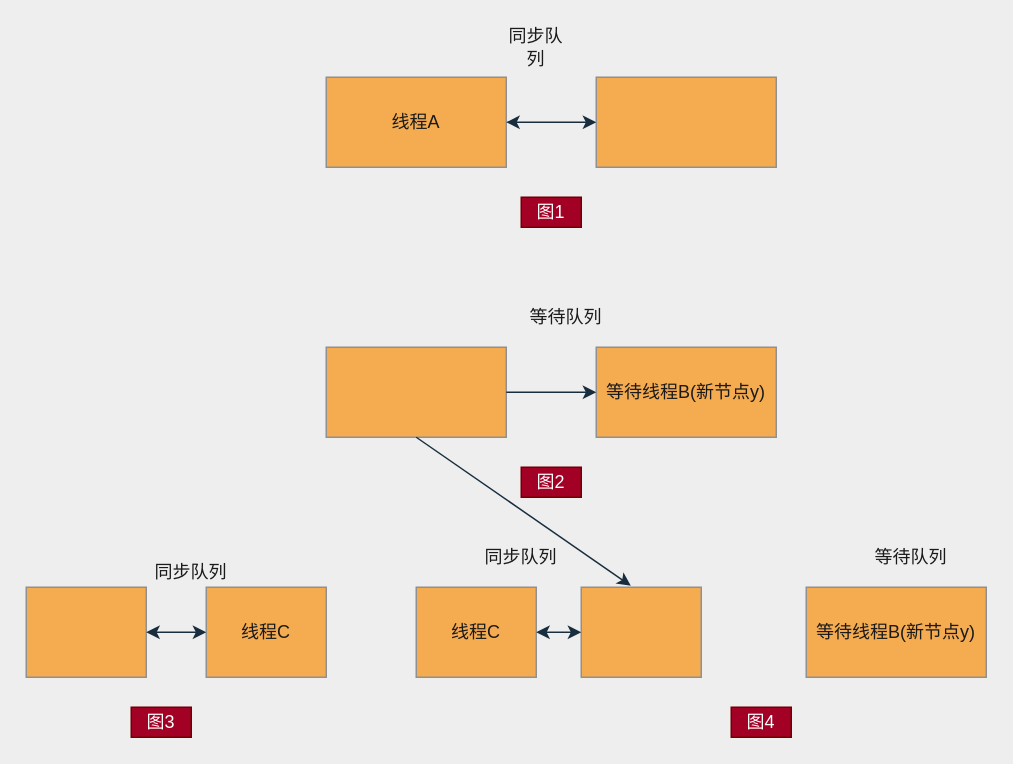
The diagram is 1013 pixels wide and 764 high, and some of its shapes have lost their labels. The shapes that lost their labels are listed below. From the top down, each one's box as (x1, y1, x2, y2) in pixels, then its label:
(595, 76, 776, 167): 线程B
(325, 346, 506, 437): 等待线程A(新节点x)
(25, 586, 146, 677): dummy
(580, 586, 701, 677): 线程A(节点x)
